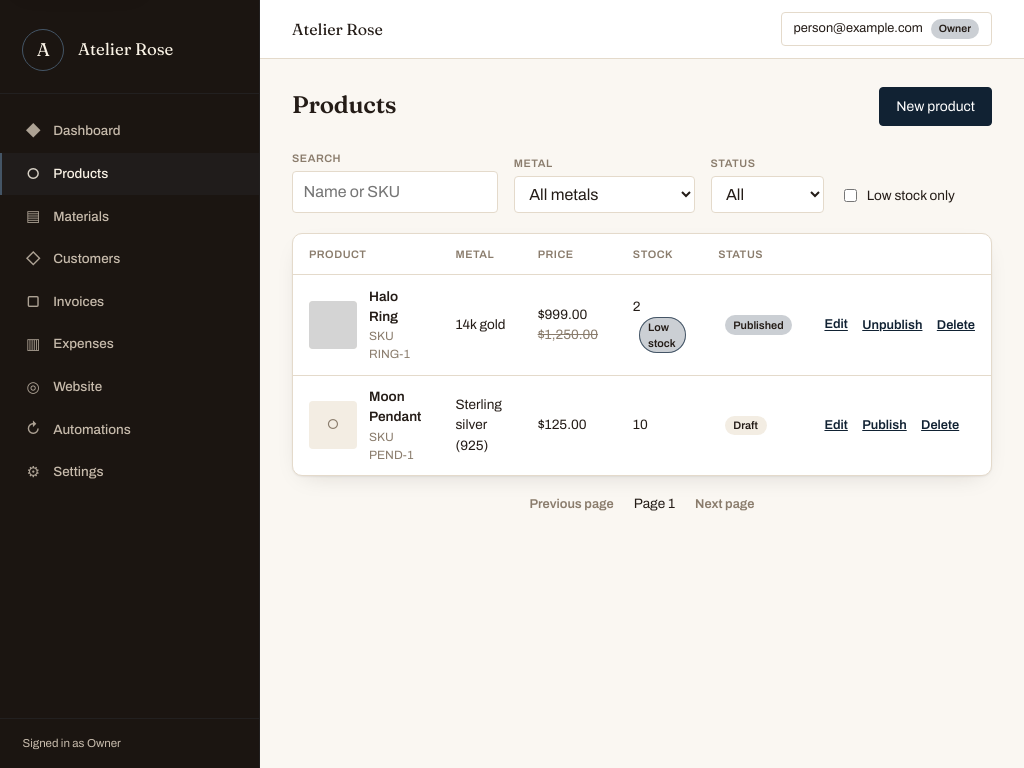
Scenario: products list › publish and unpublish from the list
Click the button with aria-label "Unpublish Halo Ring": x=892, y=325 862,312 -> 922,338
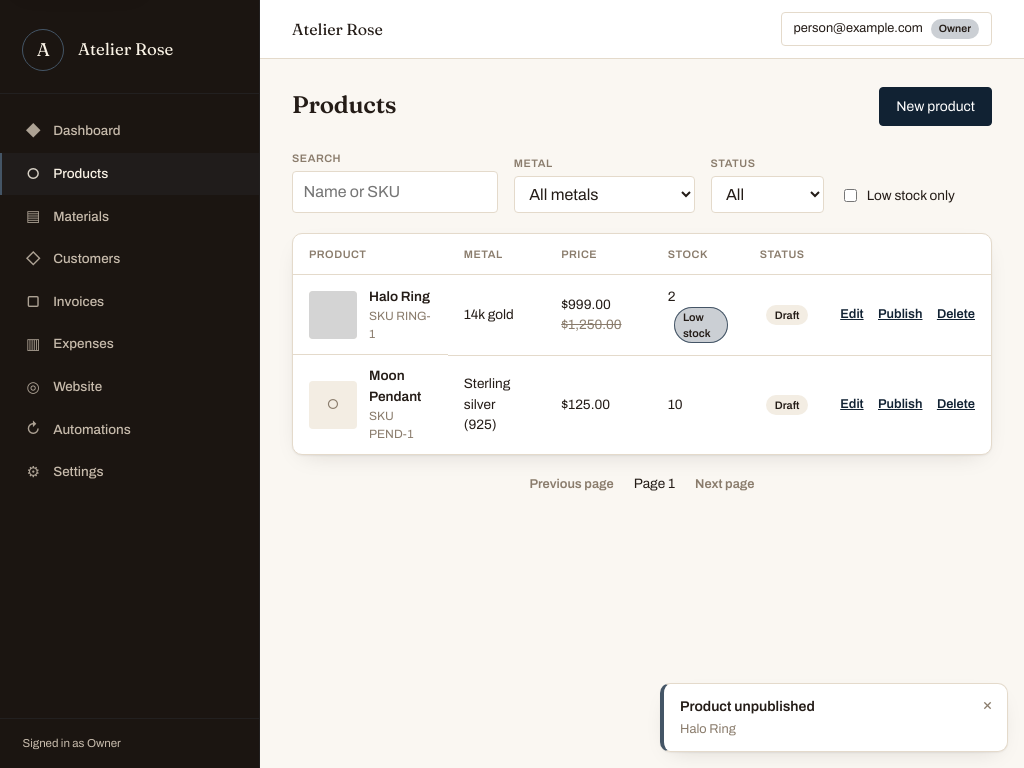
Expected: the text "Draft" in the row of "RING-1" is shown, 775,309 -> 799,321
Expected: the text "Product unpublished" is shown, 680,699 -> 815,714
